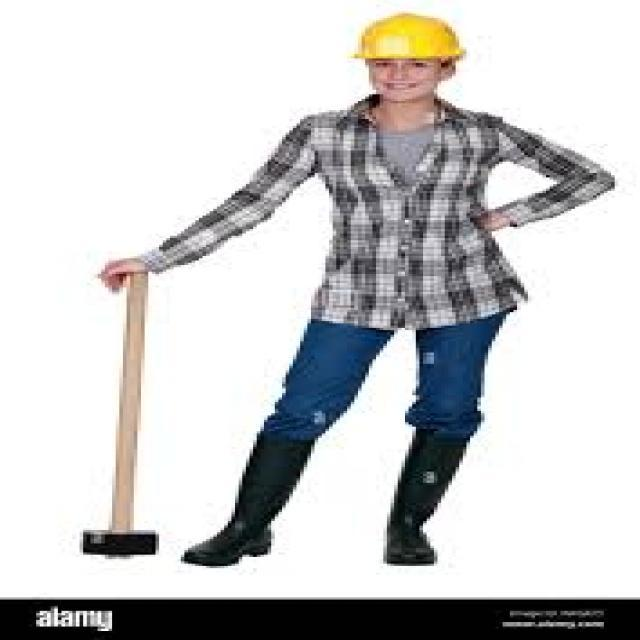hammer: (67, 251, 168, 566)
